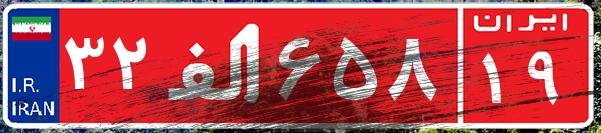1: (475, 38, 525, 113)
2: (110, 28, 158, 105)
3: (57, 26, 110, 107)
5: (330, 28, 385, 110)
6: (273, 28, 330, 110)
8: (385, 28, 445, 110)
9: (525, 38, 570, 115)
الف: (158, 15, 273, 115)
